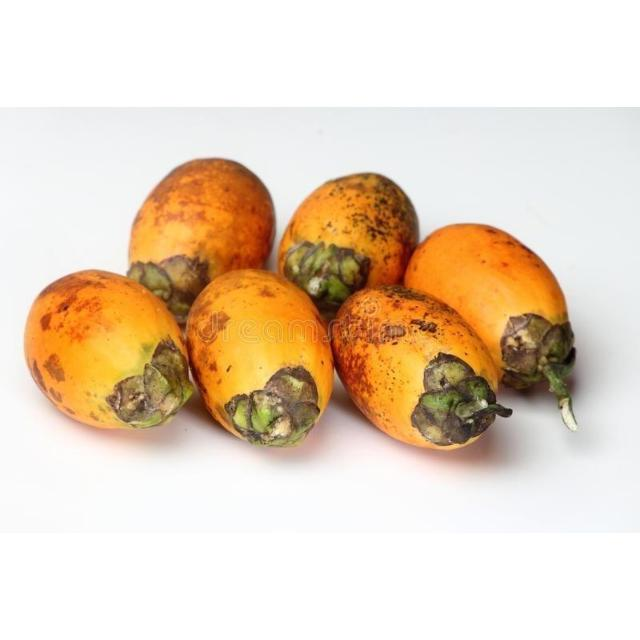good: (328, 286, 511, 453), (403, 223, 575, 397), (22, 270, 198, 433), (182, 269, 336, 449), (127, 158, 277, 323), (279, 173, 422, 323)
